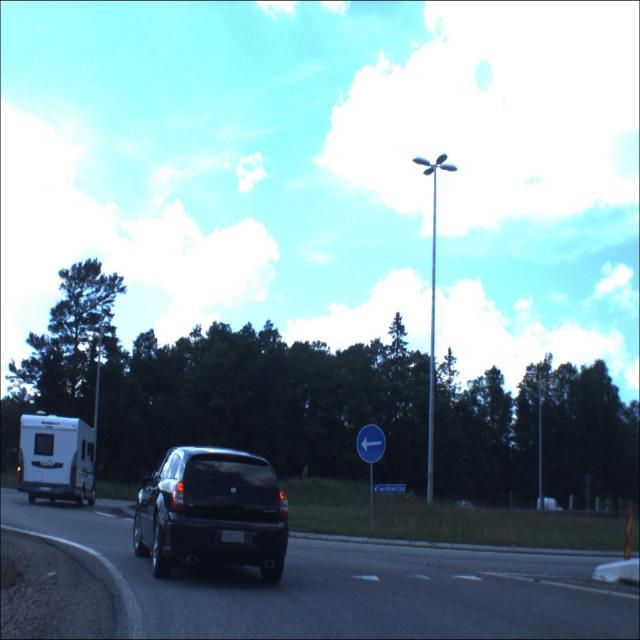Turn Left: (353, 422, 388, 464)
